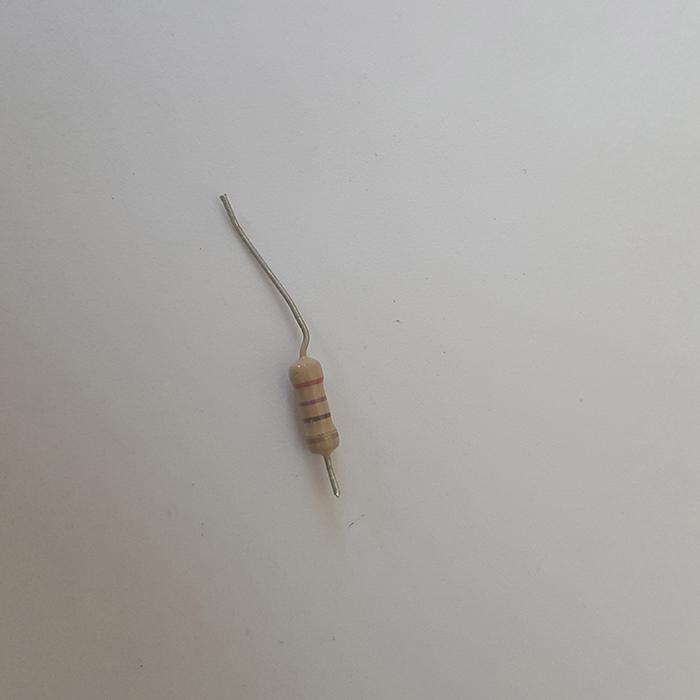resistor: (288, 354, 339, 461)
